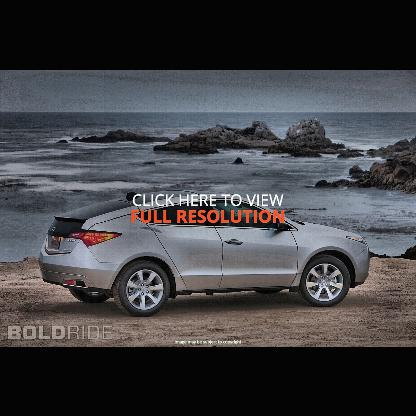Acura ZDX Hatchback 2012: (37, 195, 373, 319)
